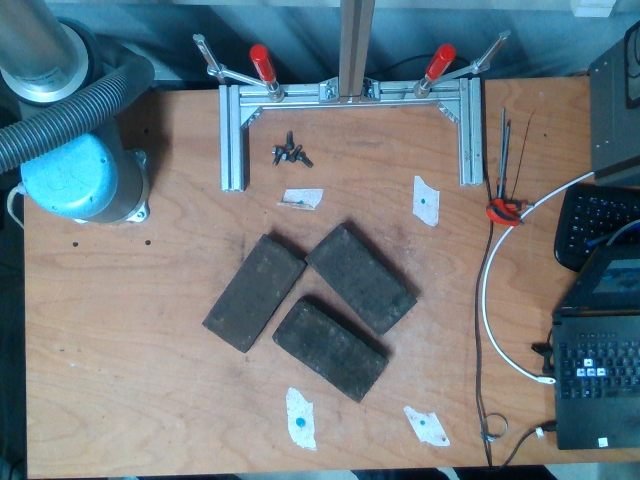brick: (303, 224, 417, 337), (201, 237, 306, 355), (270, 300, 389, 404)
